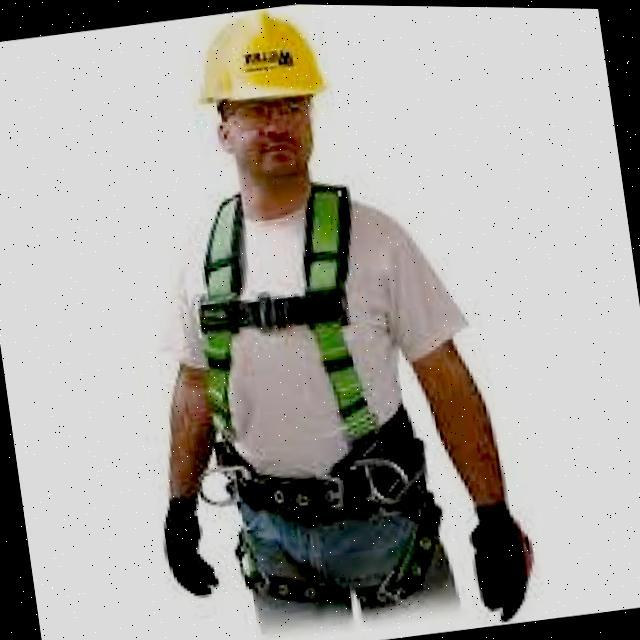goggles_on: (214, 96, 323, 134)
